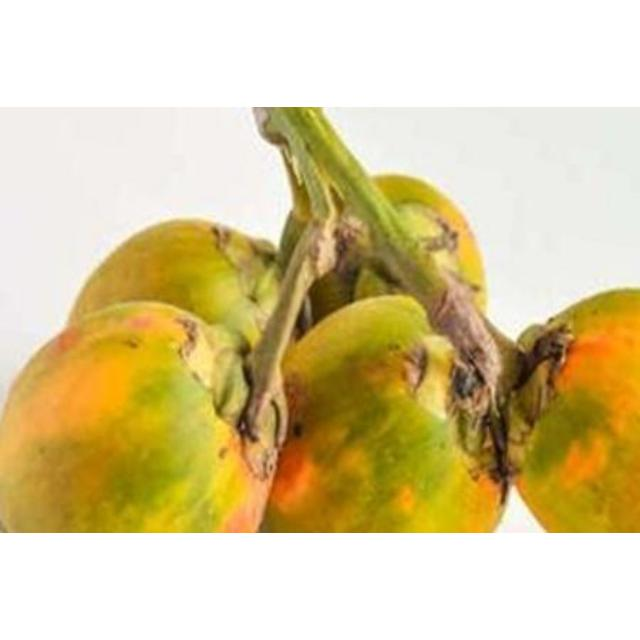good: (3, 301, 275, 533), (258, 293, 502, 532), (509, 288, 639, 532), (288, 168, 484, 326), (66, 218, 282, 358)
